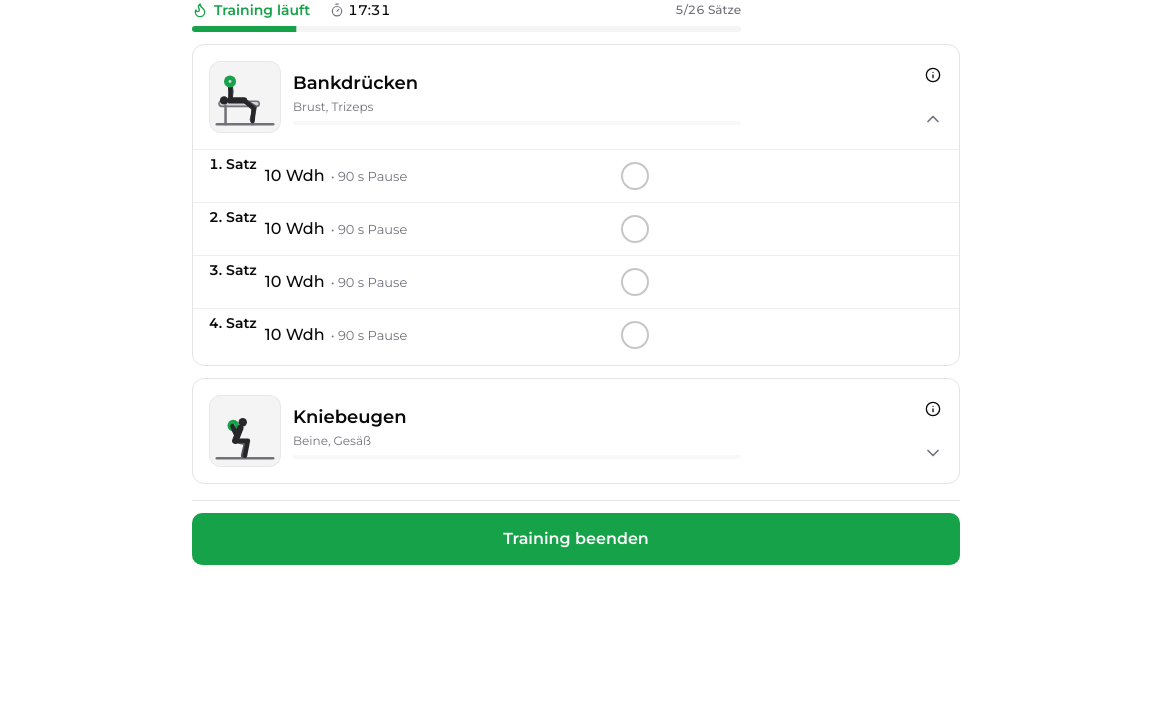
Scenario: ActiveWorkoutSession exercise expansion › opens guidance without changing which exercise is open
Click the button named "Informationen zu Kniebeugen" at (933, 409), box [911,387,955,431]
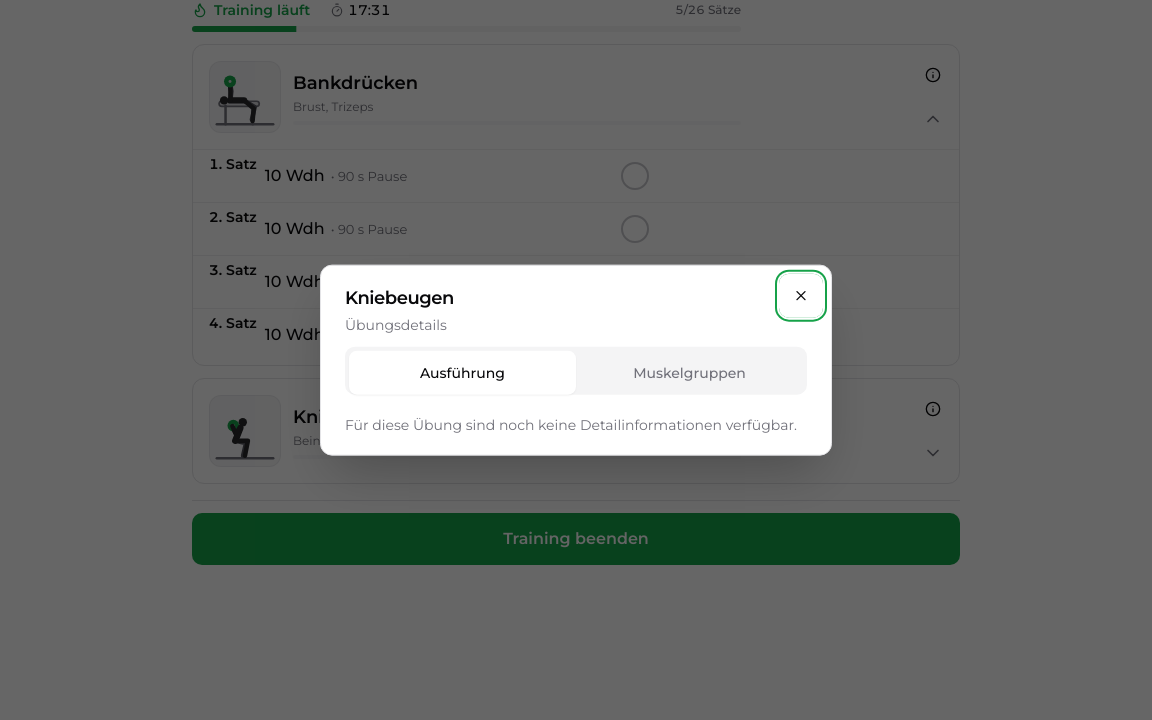
Result: the dialog "Kniebeugen" is shown at [320,265,832,455]
Press Escape
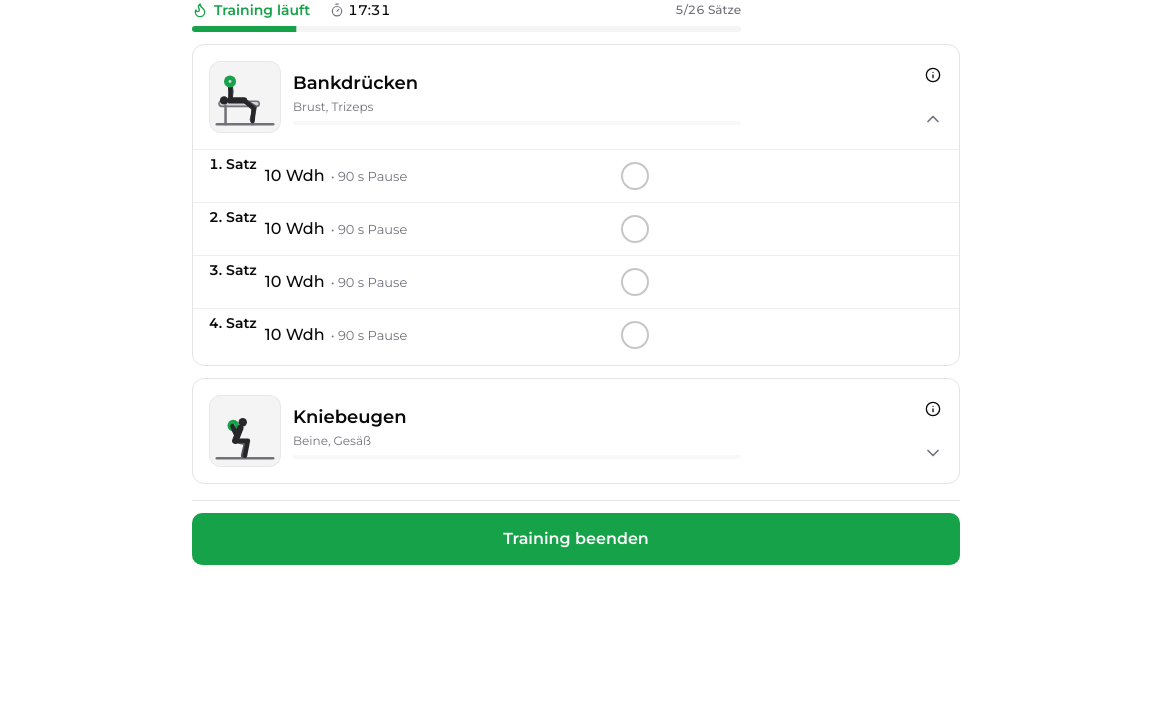
Result: the dialog is gone
